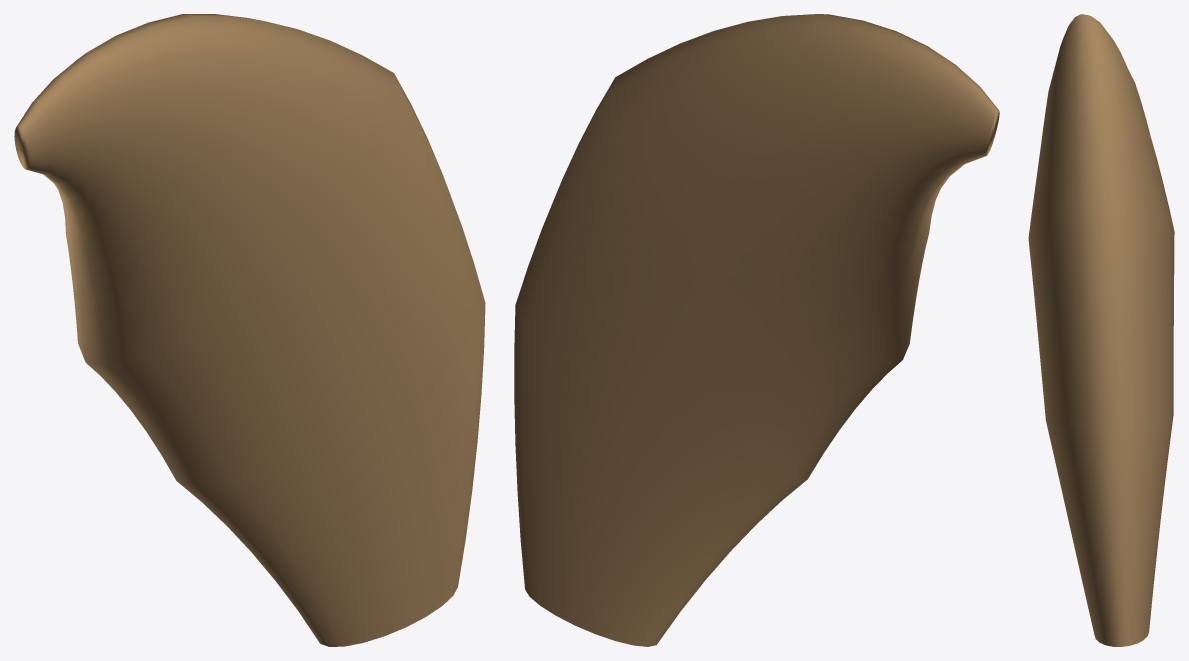
Rendered from dog_ear_r.glb.
3 renders of one model, left to right at view 1: azimuth 30°, elevation 25°; view 2: azimuth 150°, elevation 25°; view 3: azimuth 270°, elevation 25°, orthographic. The views are drawn at different scales.
Size of the model in its own units: 0.0416 by 0.0564 by 0.0144.
